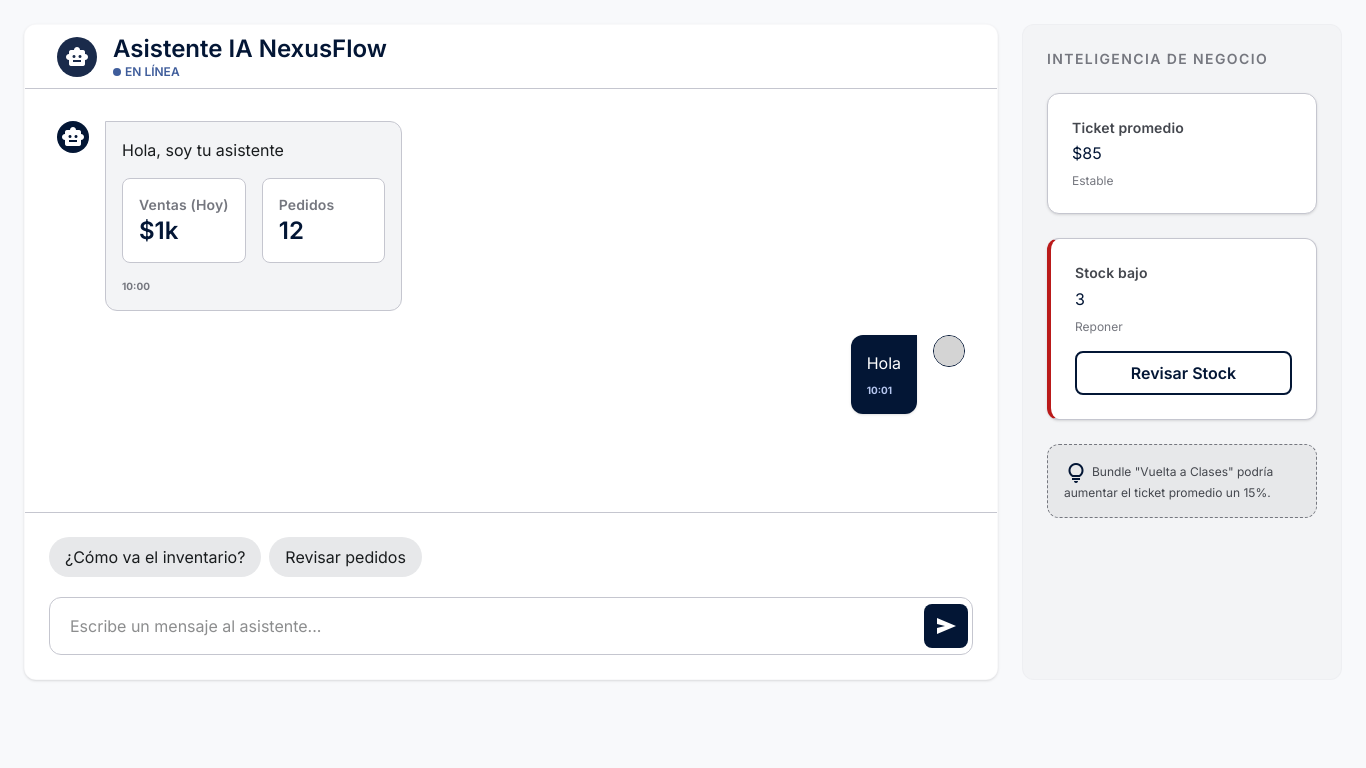
Test: MerchantAssistantPage › sends message on send button click
The image size is (1366, 768).
Step 1. Type "Hola asistente" into the field with placeholder "Escribe un mensaje al asistente..." → (481, 626), box [54,602,908,650]
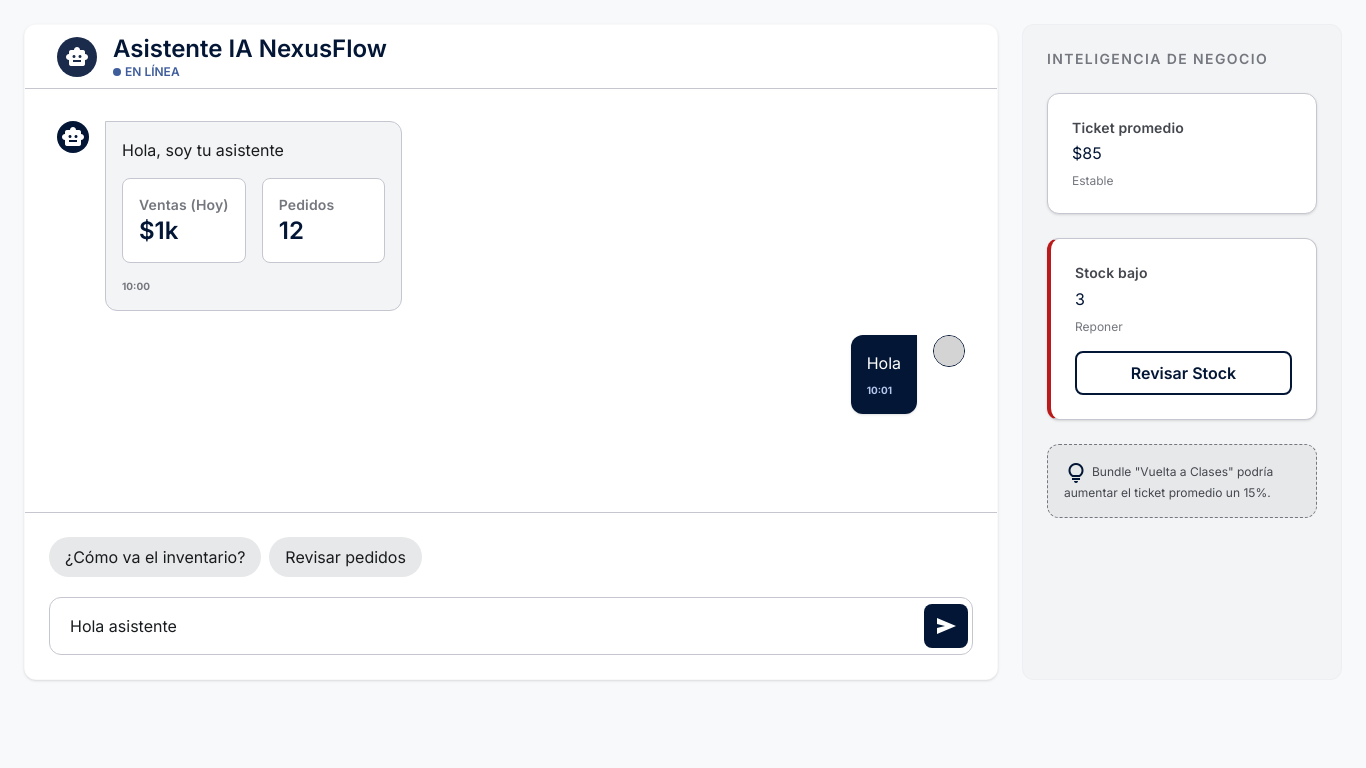
Step 2. Click the button named "Enviar" → (946, 626), box [924,604,968,648]
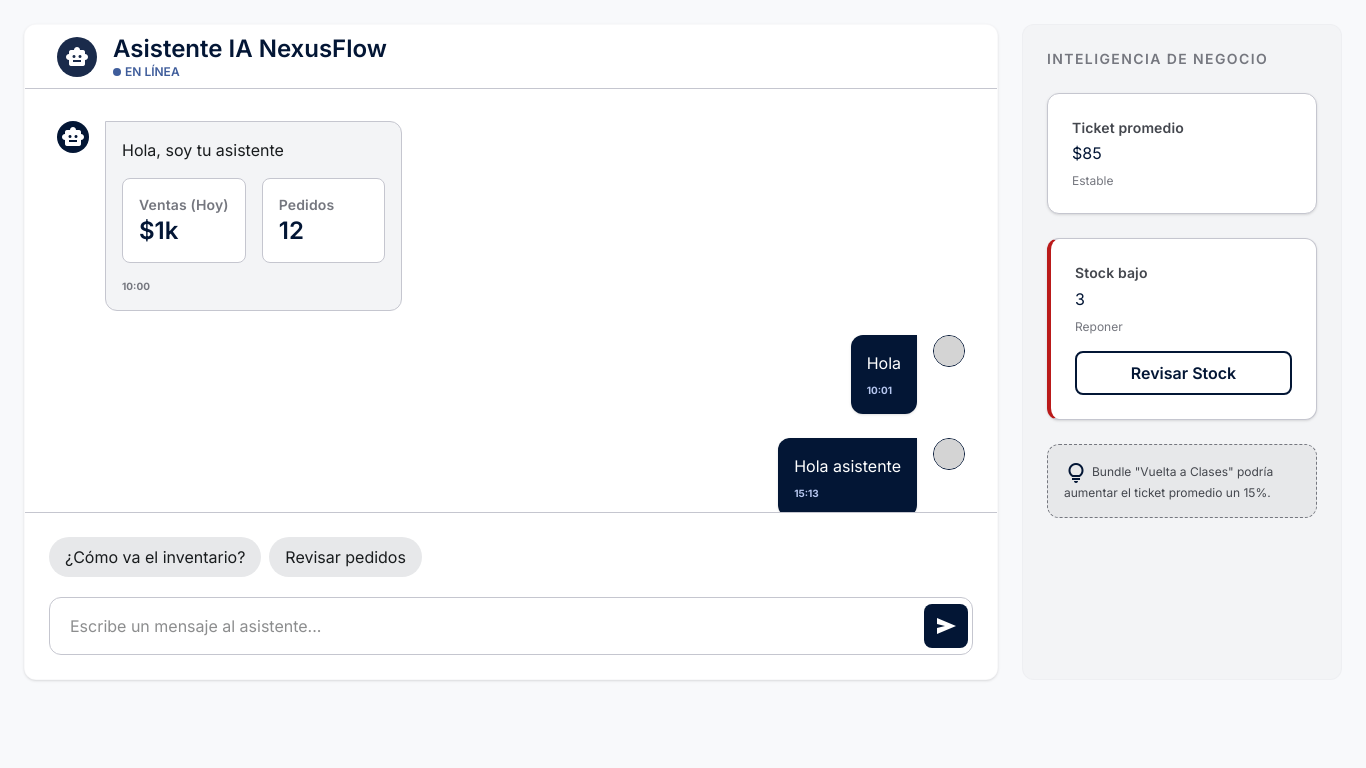
Expected: the text "Hola asistente" is shown, [794,454,901,478]
Expected: the field with placeholder "Escribe un mensaje al asistente..." is empty, [54,602,908,650]
